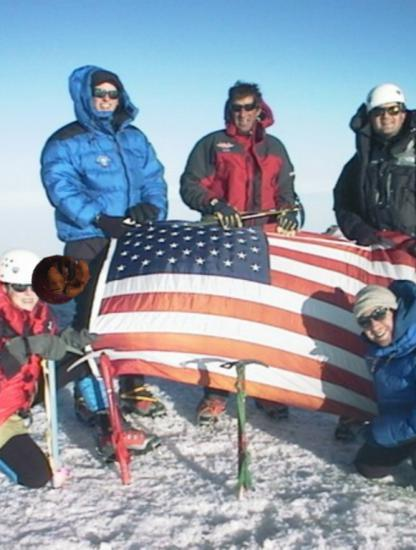Mangostan: (30, 248, 93, 311)
